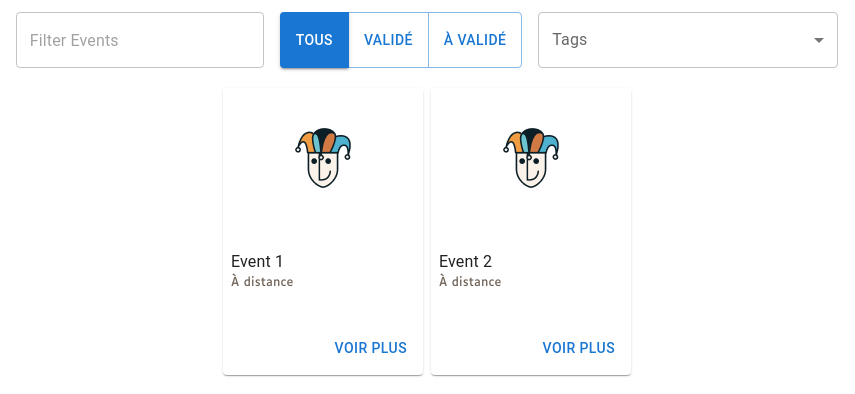
Composant Filter › filtre les événements par statut de validation
The width and height of the screenshot is (855, 394).
Expected: the text "Event 1" is shown, [231, 252, 284, 271]
Click the button "Validé" at {"x": 388, "y": 40}, box [348, 12, 429, 68]
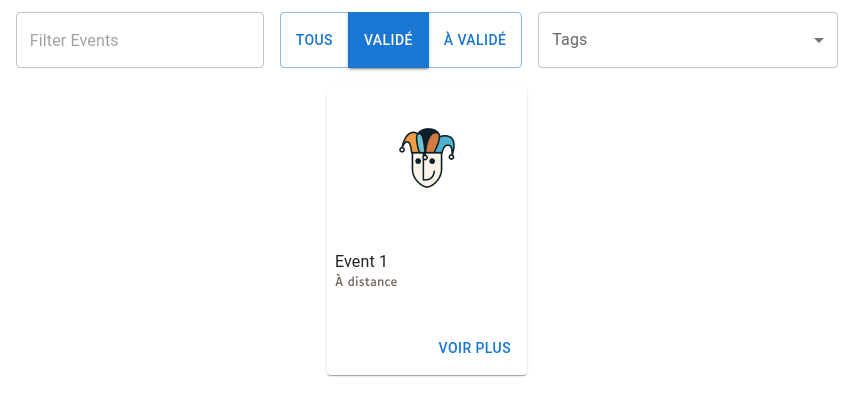
Expected: the text "Event 1" is shown, [335, 252, 388, 271]
Expected: the text "Event 2" is gone
Click the button "À validé" at {"x": 475, "y": 40}, box [428, 12, 522, 68]
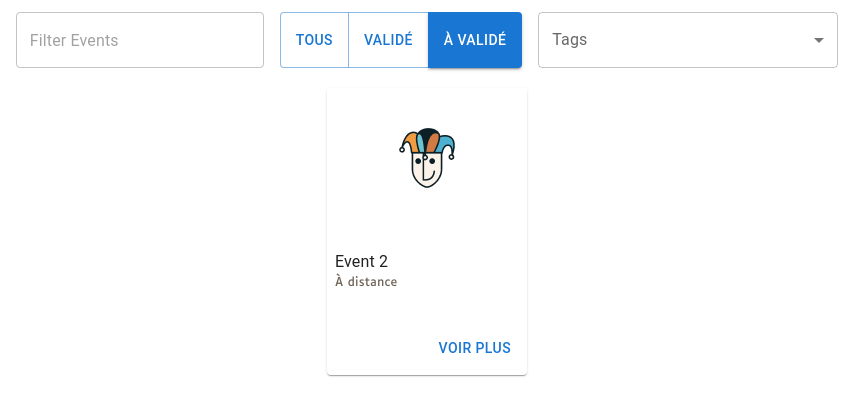
Expected: the text "Event 1" is gone
Expected: the text "Event 2" is shown, [335, 252, 388, 271]
